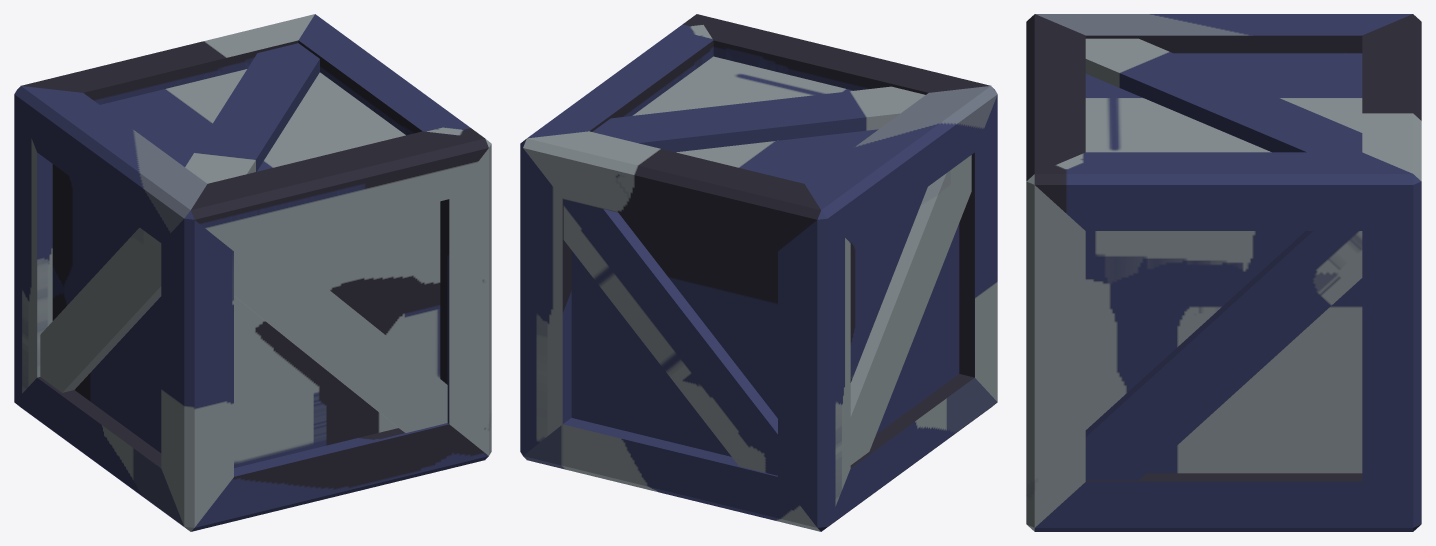
The model's file is Wood_Box.FBX.
3 views of the same model, side by side, from view 1: azimuth 30°, elevation 25°; view 2: azimuth 150°, elevation 25°; view 3: azimuth 270°, elevation 25° (orthographic). The views are drawn at different scales.
Parts seen in each view (by area): view 1: Wood_Box; view 2: Wood_Box; view 3: Wood_Box.
Part boxes in pixels (bbox=[...]): Wood_Box: bbox=[14, 14, 491, 531]; Wood_Box: bbox=[520, 14, 997, 531]; Wood_Box: bbox=[1026, 14, 1421, 531].
Bounding box in the file's own units: 100 × 100 × 100.
